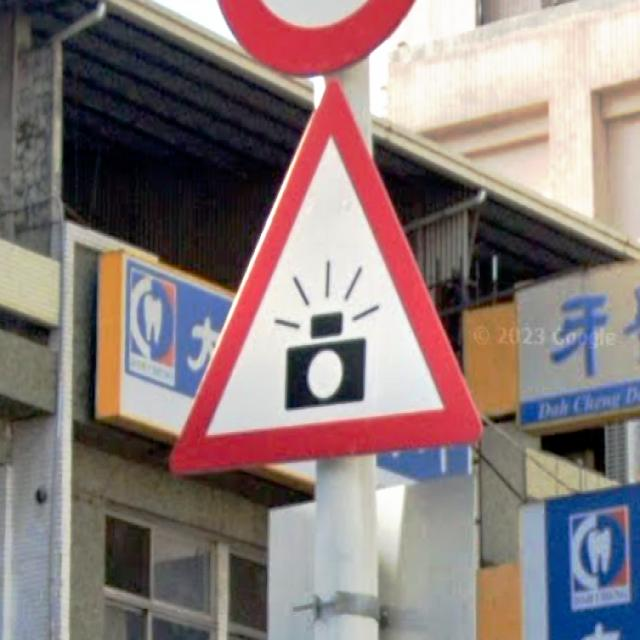speedcamera: (172, 80, 480, 471)
